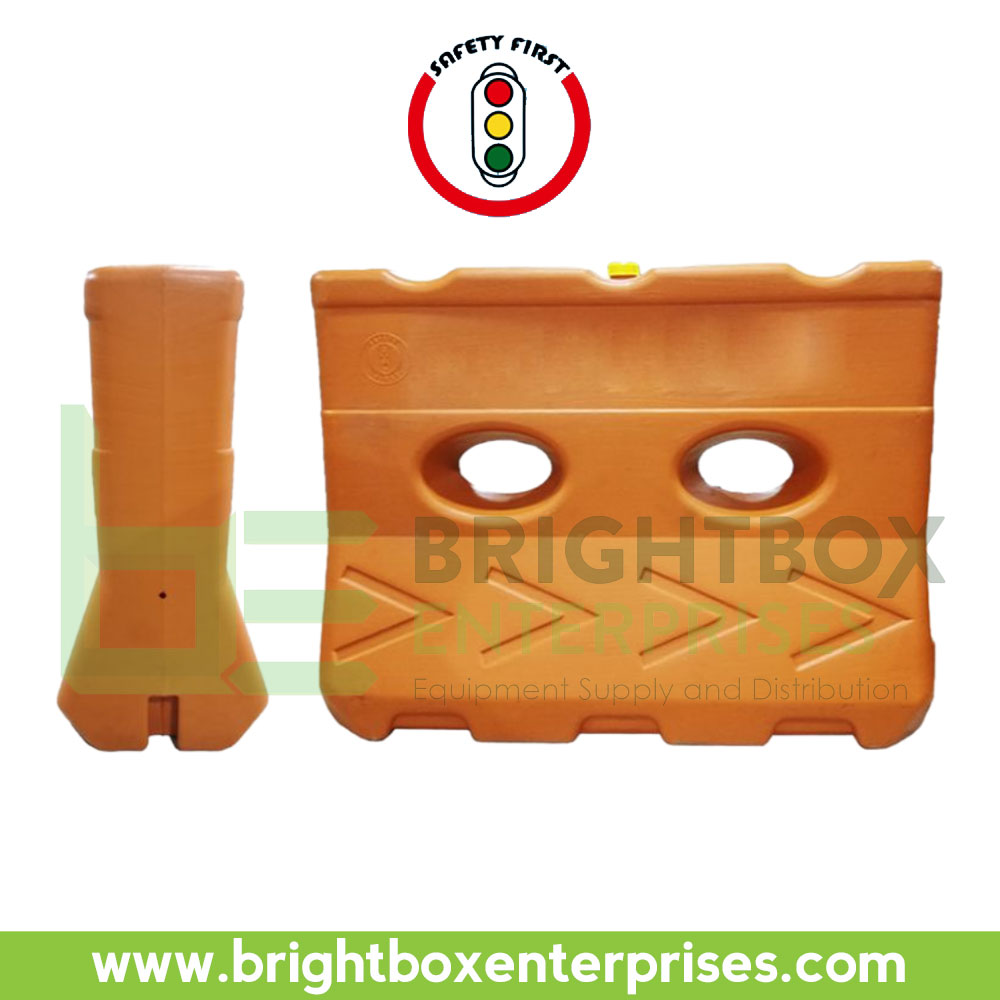Barrier: (30, 242, 947, 780)
